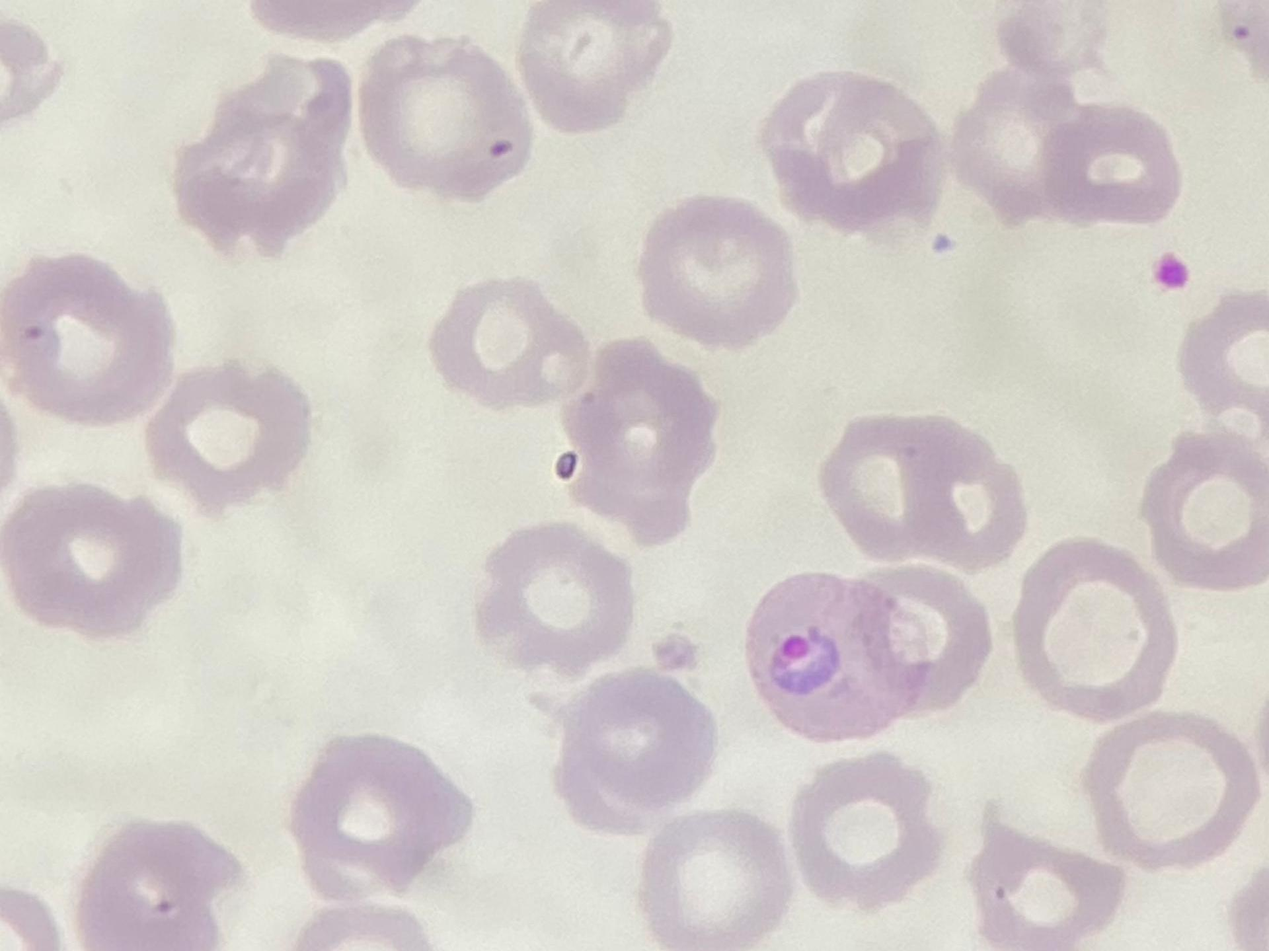Infected: (335, 210, 527, 380)
Uninfected: (921, 690, 1097, 899), (551, 408, 706, 615), (317, 717, 502, 881), (798, 47, 975, 218), (251, 380, 441, 537), (9, 80, 191, 239), (1093, 527, 1269, 691), (90, 230, 248, 411), (1084, 318, 1263, 475), (734, 750, 906, 913), (551, 115, 714, 279), (467, 600, 636, 755), (956, 435, 1119, 594), (630, 269, 793, 427), (330, 36, 473, 192), (141, 1, 295, 140), (1028, 0, 1192, 129), (273, 239, 410, 389), (679, 540, 840, 667), (595, 820, 749, 951), (192, 723, 317, 884), (0, 353, 119, 521), (480, 3, 627, 137), (88, 728, 226, 844)
